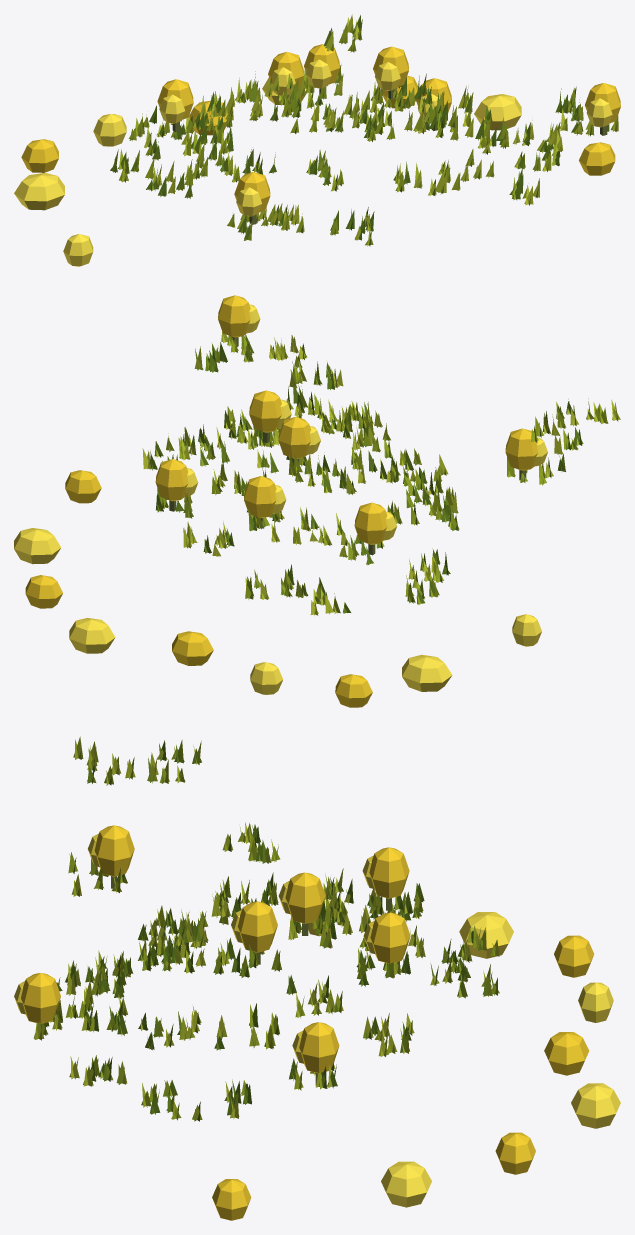
File: Vegetation.obj
3 views of the same model, one above another, from view 1: azimuth 30°, elevation 25°; view 2: azimuth 150°, elevation 25°; view 3: azimuth 270°, elevation 25° (orthographic). The views are drawn at different scales.
Parts seen in each view (by area): view 1: Vegetation; view 2: Vegetation; view 3: Vegetation.
Boxes of the visible parts, x1,y1,x2,y2 form: Vegetation: [14, 14, 620, 266]; Vegetation: [14, 295, 620, 707]; Vegetation: [14, 736, 620, 1220].
Bounding box in the file's own units: 9.77 × 3.79 × 8.33.
